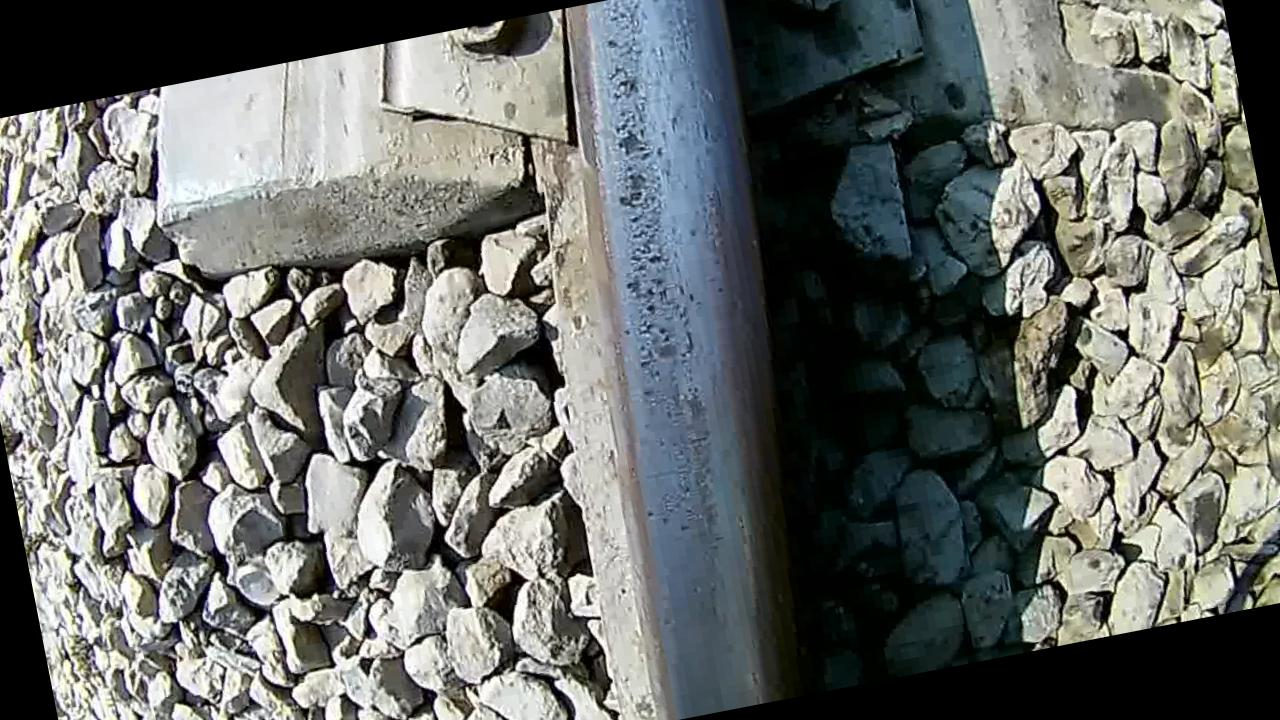crack: (545, 0, 850, 718)
